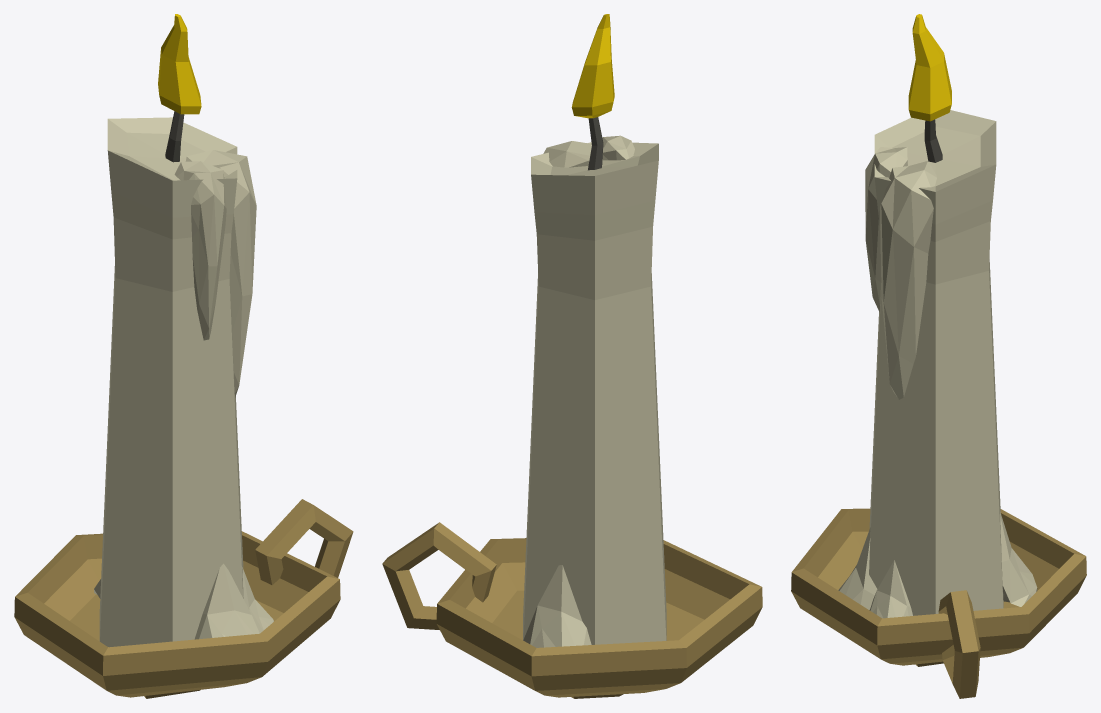
File: candle_1_lit.fbx
3 renders of one model, left to right at view 1: azimuth 30°, elevation 25°; view 2: azimuth 150°, elevation 25°; view 3: azimuth 270°, elevation 25°, orthographic. The views are drawn at different scales.
Parts seen in each view (by area): view 1: candle3; view 2: candle3; view 3: candle3.
Boxes of the visible parts, x1,y1,x2,y2 form: candle3: [14, 14, 353, 698]; candle3: [382, 14, 762, 698]; candle3: [791, 14, 1086, 698].
Bounding box in the file's own units: 0.1935 × 0.3854 × 0.1643.
